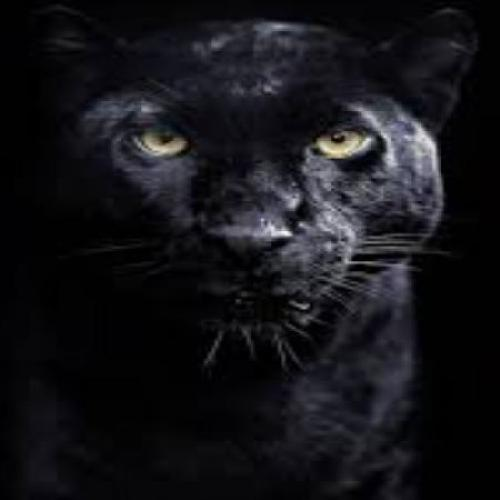panther-endangered: (80, 33, 442, 460)
